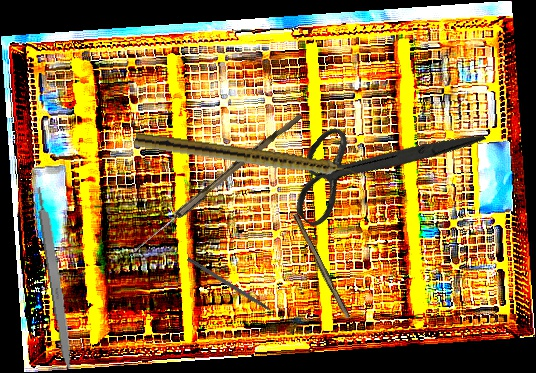Handpiece: (133, 132, 363, 183)
Hook Surgical: (186, 256, 283, 321)
Iris Scissors: (271, 55, 487, 274)
Scalpel Handle: (34, 186, 77, 371), (289, 213, 353, 320)
Surgical Spoon: (131, 109, 303, 257)
